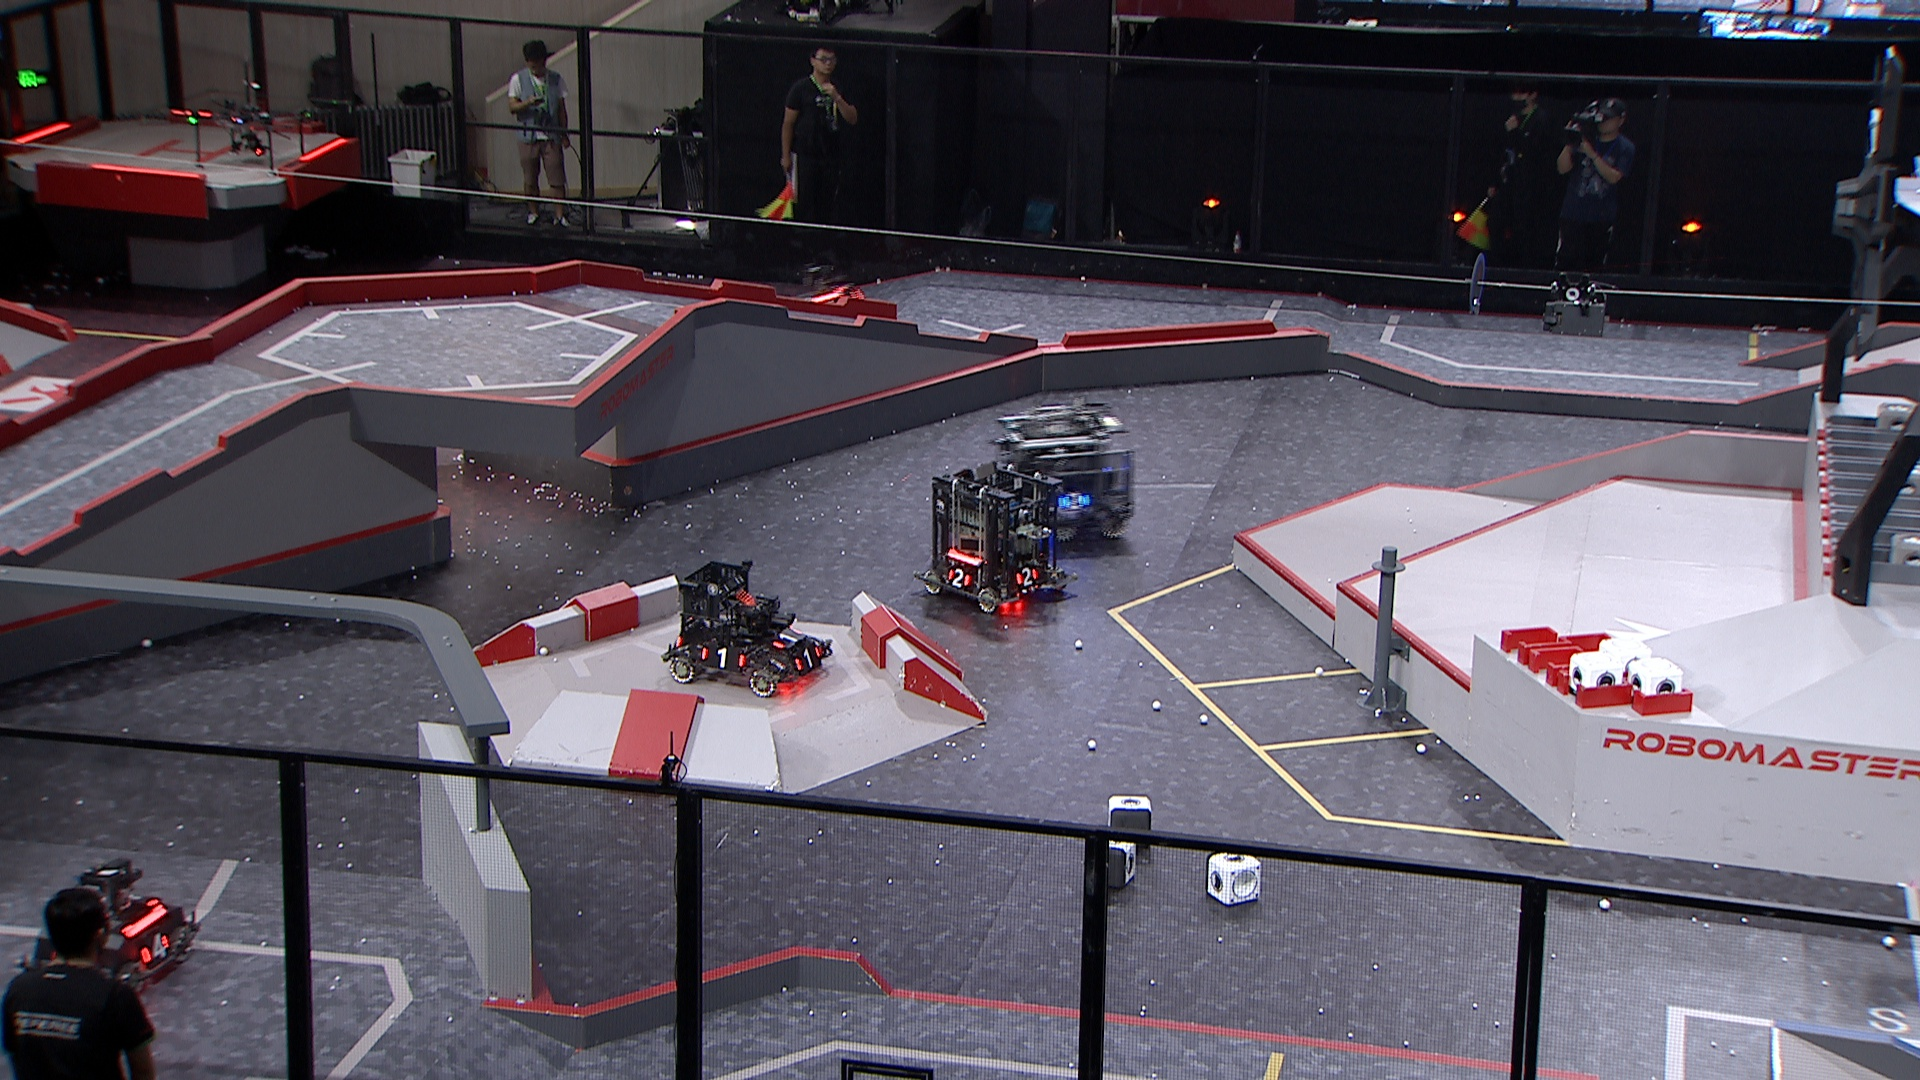armor: (699, 645, 749, 670), (141, 932, 169, 963), (793, 642, 822, 670), (773, 622, 800, 647), (1055, 491, 1088, 509), (948, 564, 971, 585), (1015, 567, 1038, 585)
car: (16, 853, 200, 998), (913, 456, 1073, 617), (662, 556, 825, 698), (992, 392, 1135, 551), (793, 262, 877, 334)
